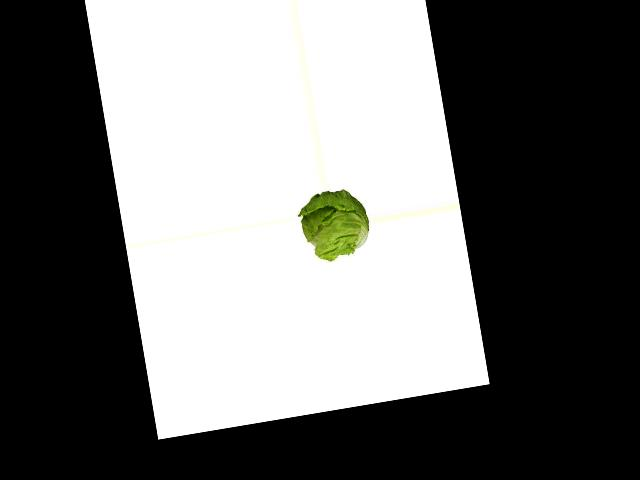lettuce: (296, 185, 375, 262)
